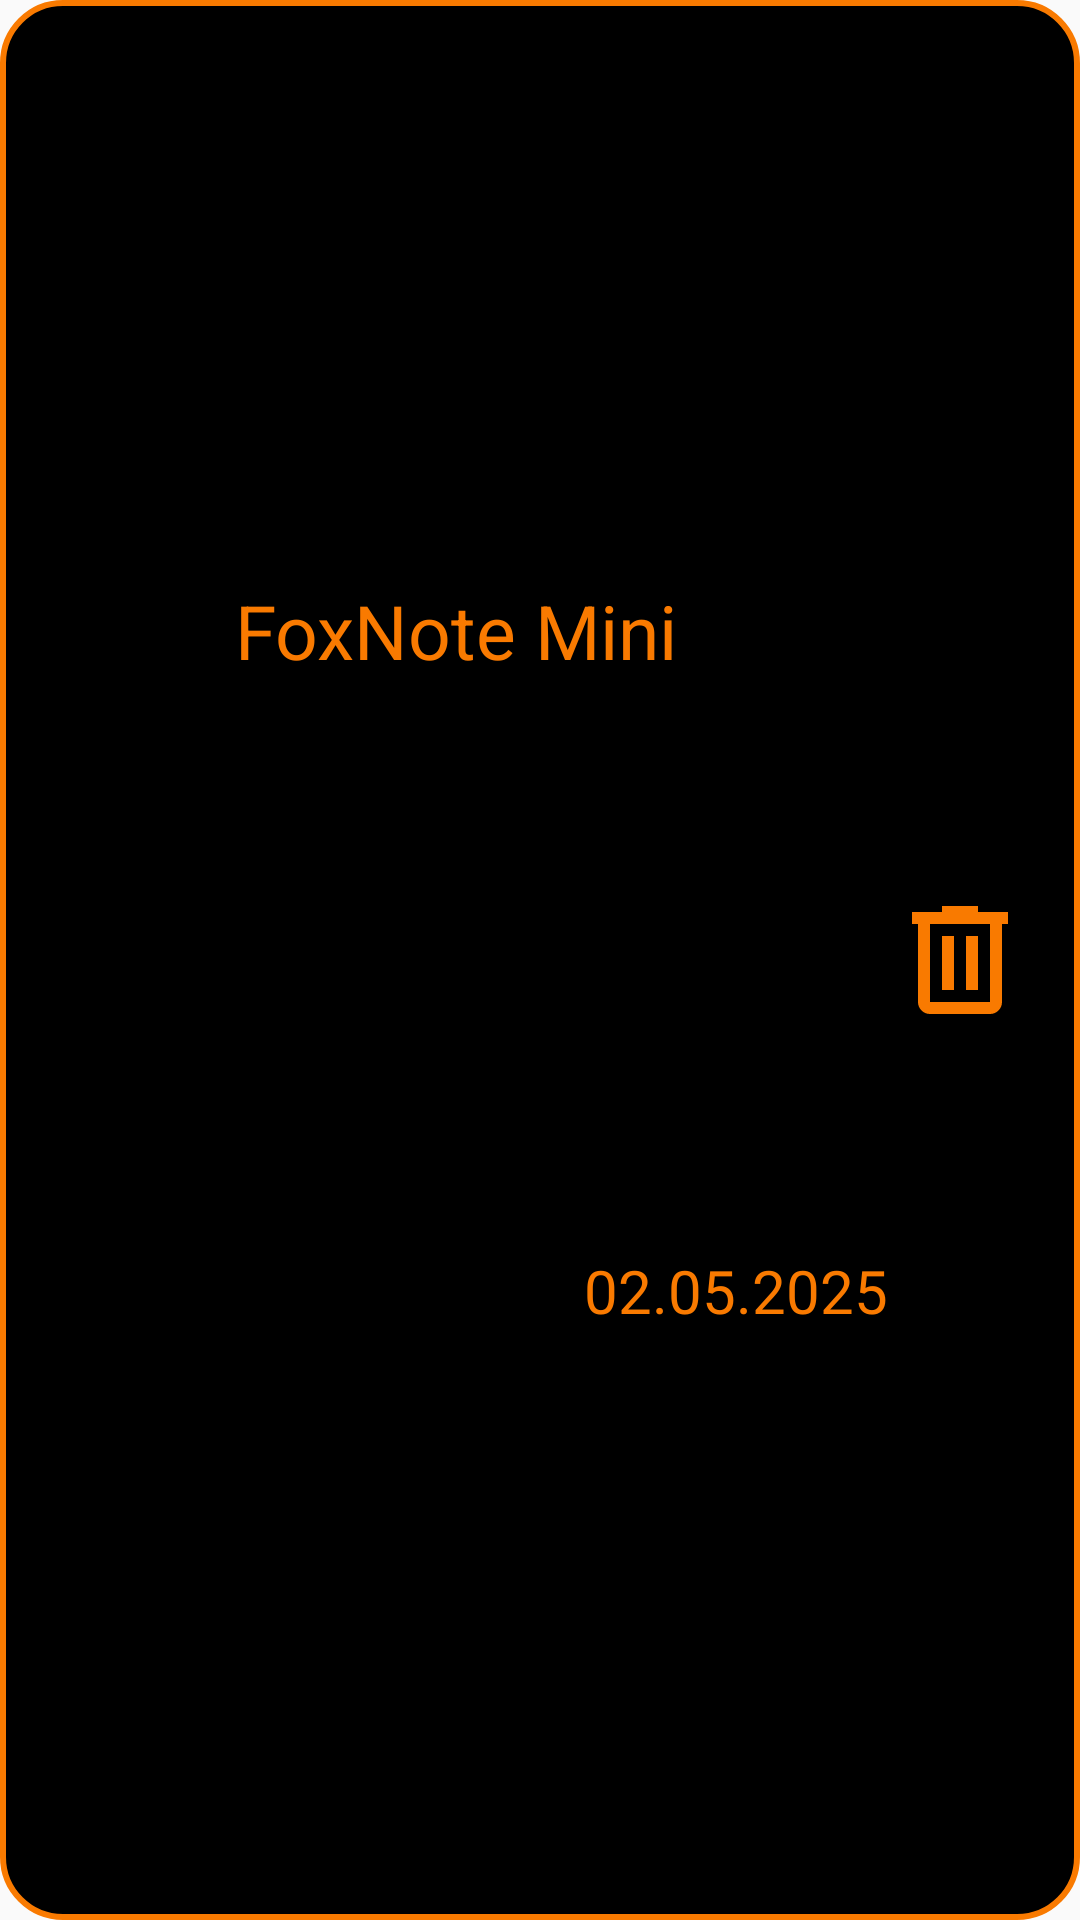

Where to tap for icons on this 1080 × 1920 app screen, as [x,y]:
delete: [960,960]
